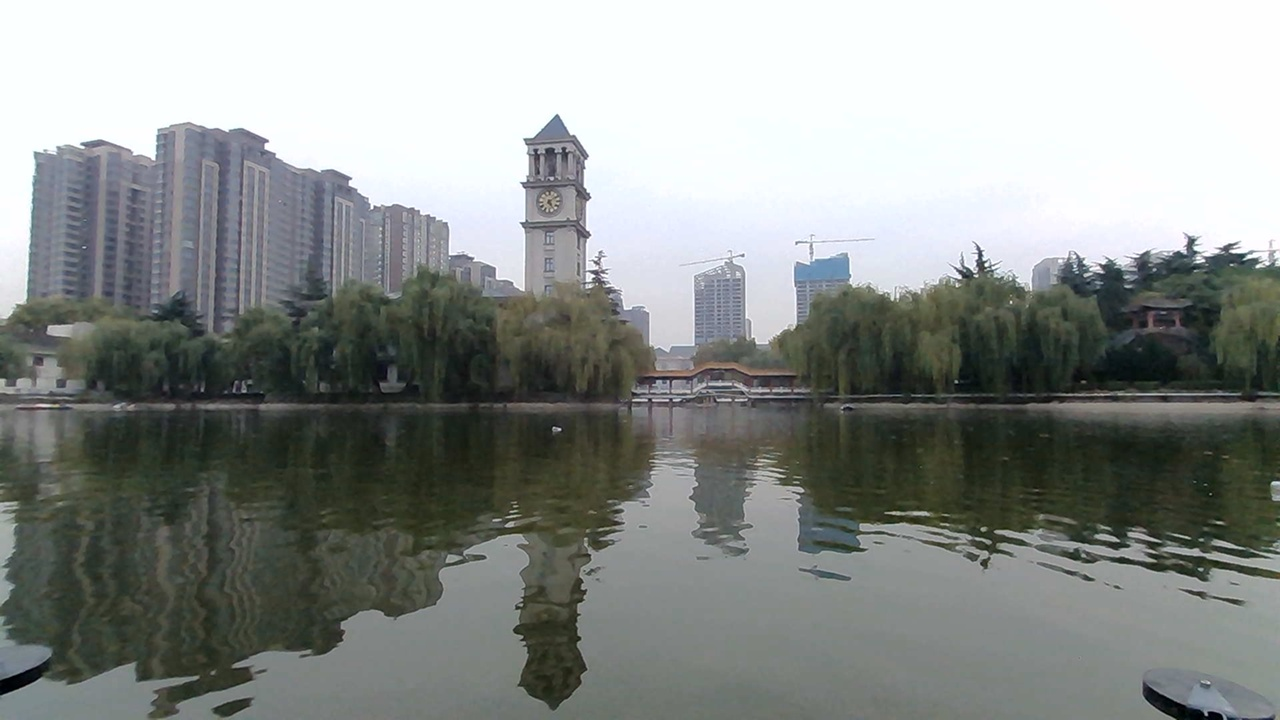bottle: (546, 414, 577, 435), (1270, 478, 1280, 499)
